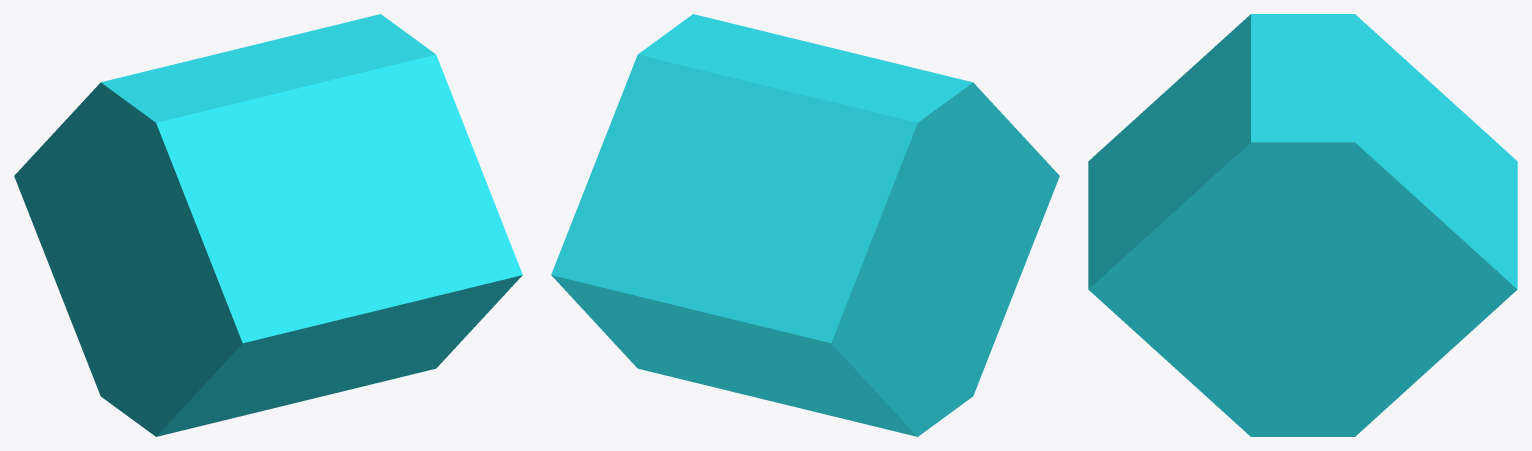
File: button_blue.fbx
3 renders of one model, left to right at view 1: azimuth 30°, elevation 25°; view 2: azimuth 150°, elevation 25°; view 3: azimuth 270°, elevation 25°, orthographic. The views are drawn at different scales.
Visible parts, largest first — view 1: Cube.015; view 2: Cube.015; view 3: Cube.015.
Boxes of the visible parts, <box> form: Cube.015: <box>14,14,522,436</box>; Cube.015: <box>551,14,1059,436</box>; Cube.015: <box>1088,14,1517,436</box>.
Size of the model in its own units: 96.99 by 104 by 137.
